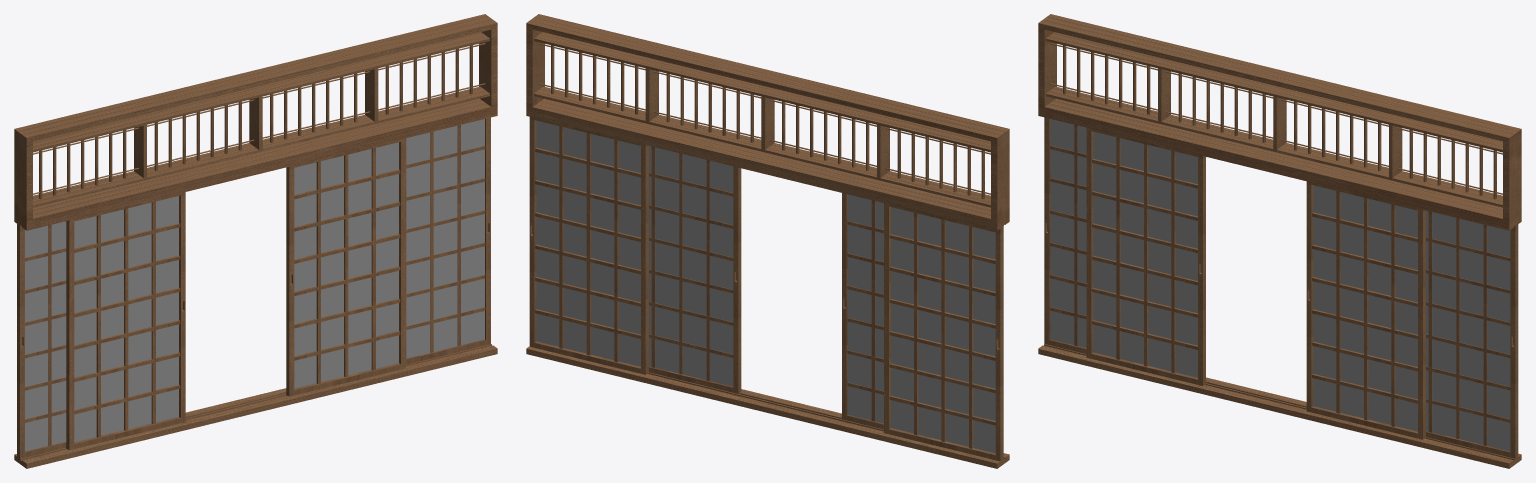
The model's file is Doors.FBX.
The picture shows the model from 3 angles, left to right: view 1: azimuth 30°, elevation 25°; view 2: azimuth 150°, elevation 25°; view 3: azimuth 330°, elevation 25°; orthographic projection.
Visible parts, largest first — view 1: entrance doors, door 1, door 2, door 4, door 3; view 2: entrance doors, door 3, door 4, door 2, door 1; view 3: entrance doors, door 2, door 1, door 4, door 3.
Part boxes in pixels (x1=…): entrance doors: x1=14, y1=14, x2=497, y2=468; door 1: x1=66, y1=192, x2=185, y2=450; door 2: x1=286, y1=138, x2=405, y2=396; door 4: x1=405, y1=117, x2=490, y2=364; door 3: x1=17, y1=221, x2=66, y2=459; entrance doors: x1=526, y1=14, x2=1009, y2=468; door 3: x1=884, y1=203, x2=1003, y2=461; door 4: x1=529, y1=117, x2=648, y2=374; door 2: x1=649, y1=146, x2=741, y2=394; door 1: x1=842, y1=193, x2=883, y2=429; entrance doors: x1=1038, y1=14, x2=1521, y2=468; door 2: x1=1306, y1=181, x2=1425, y2=439; door 1: x1=1086, y1=128, x2=1205, y2=385; door 4: x1=1426, y1=210, x2=1518, y2=459; door 3: x1=1044, y1=117, x2=1086, y2=353.
Bounding box in the file's own units: 395 × 265 × 18.21.
2 materials, 1 textured.
